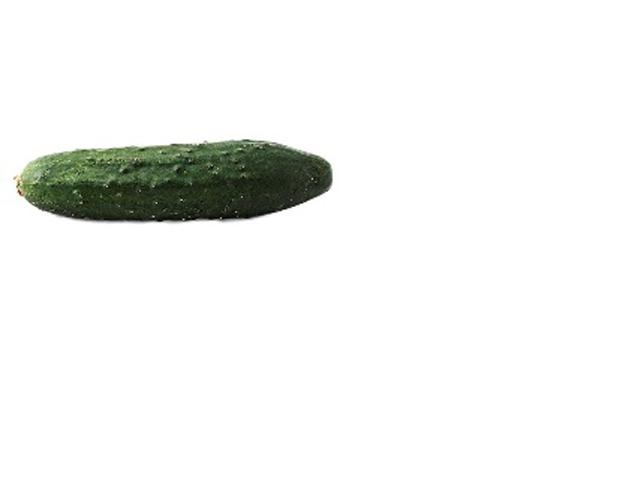cucumber: (15, 141, 333, 220)
